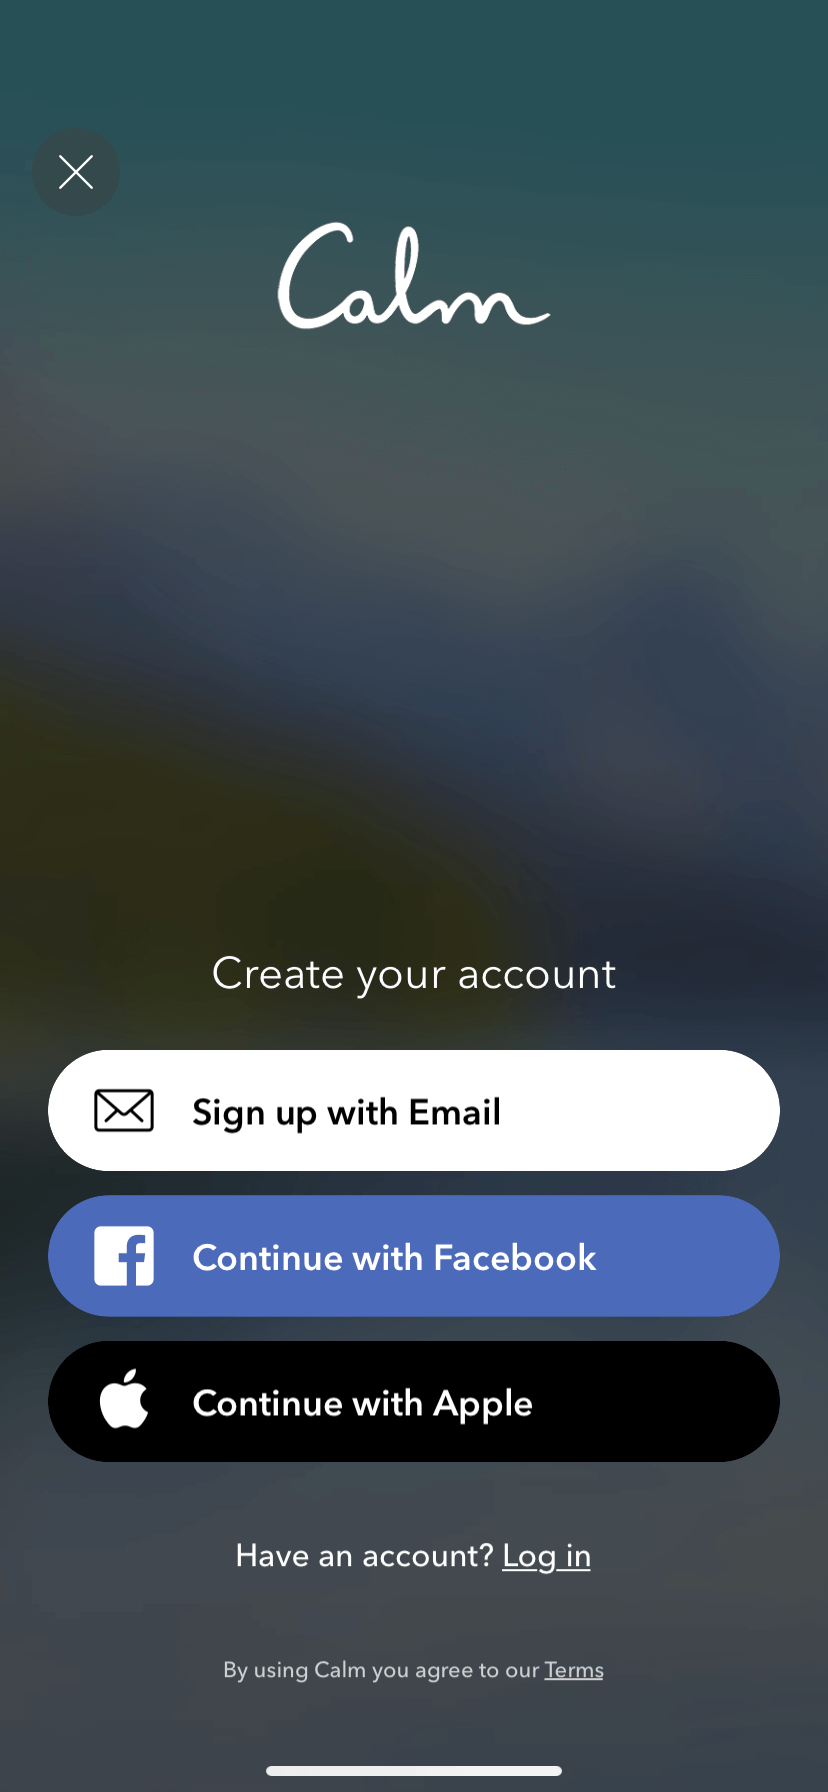Buttons: (45, 1190, 777, 1320), (51, 1045, 783, 1174), (47, 1335, 777, 1462)
FAB (Floating Action Button): (32, 118, 121, 219)
